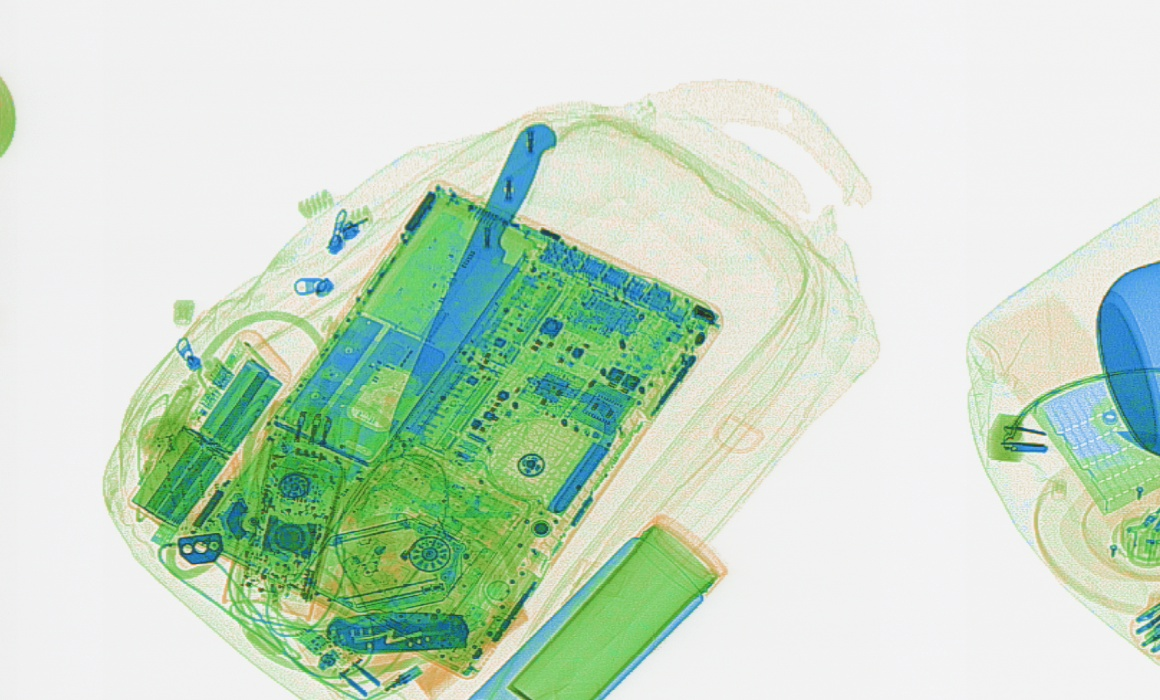knife: (384, 120, 561, 452), (325, 606, 467, 655)
powerbank: (124, 329, 291, 530)
